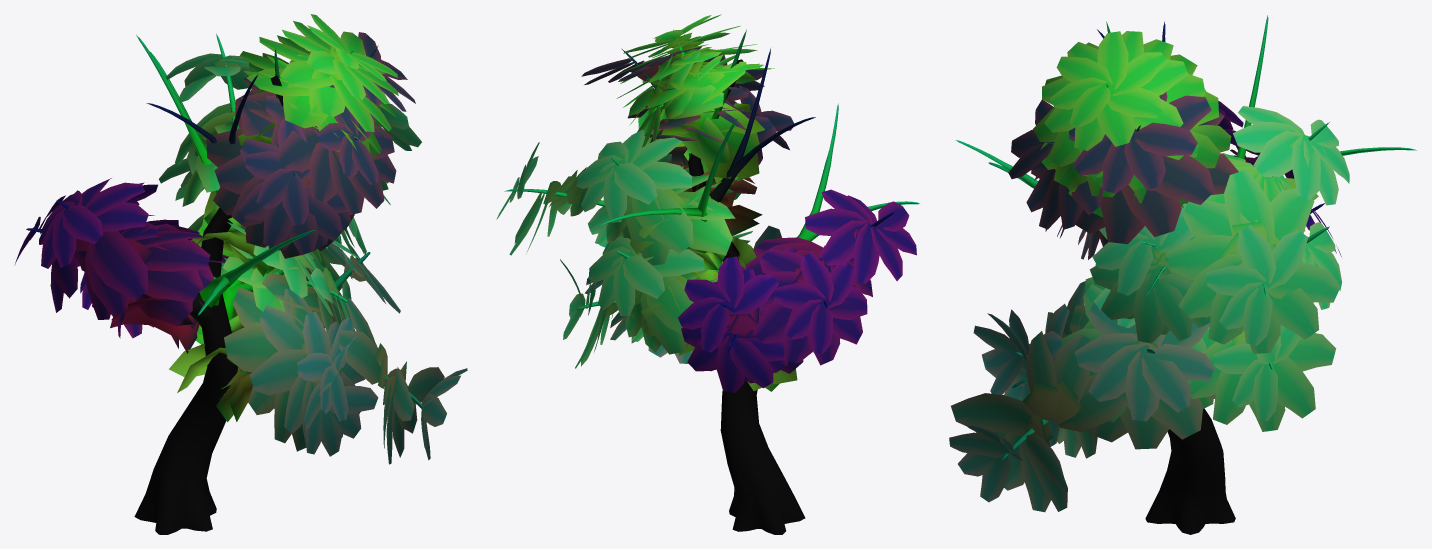
The model's file is Pastel_Tree.fbx.
3 renders of one model, left to right at view 1: azimuth 30°, elevation 25°; view 2: azimuth 150°, elevation 25°; view 3: azimuth 270°, elevation 25°, orthographic. The views are drawn at different scales.
Visible parts, largest first — view 1: sprite_0040_1, treenolleaf_maya__0sg1_basecolor_0, sprite_0039_2; view 2: sprite_0040_1, treenolleaf_maya__0sg1_basecolor_0, sprite_0039_2; view 3: sprite_0040_1, treenolleaf_maya__0sg1_basecolor_0, sprite_0039_2.
Part boxes in pixels (left/top/right/bottom): sprite_0040_1: left=14, top=14, right=467, bottom=464; treenolleaf_maya__0sg1_basecolor_0: left=26, top=33, right=422, bottom=534; sprite_0039_2: left=69, top=46, right=406, bottom=422; sprite_0040_1: left=496, top=14, right=916, bottom=392; treenolleaf_maya__0sg1_basecolor_0: left=504, top=29, right=919, bottom=534; sprite_0039_2: left=543, top=33, right=870, bottom=391; sprite_0040_1: left=949, top=31, right=1349, bottom=512; treenolleaf_maya__0sg1_basecolor_0: left=955, top=15, right=1416, bottom=534; sprite_0039_2: left=1022, top=130, right=1318, bottom=446.
Bounding box in the file's own units: 464 × 546 × 434.
